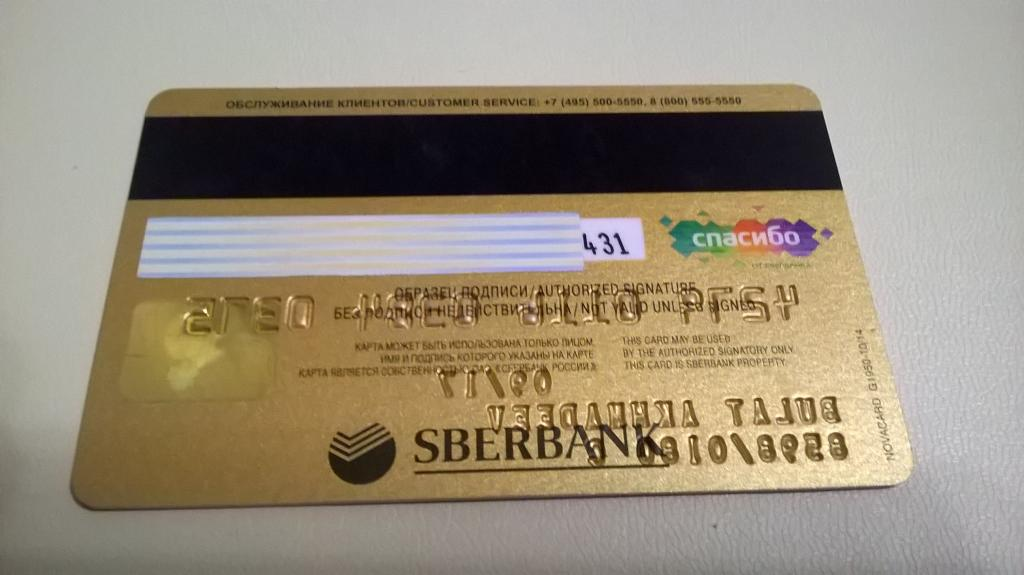card: (68, 81, 916, 512)
